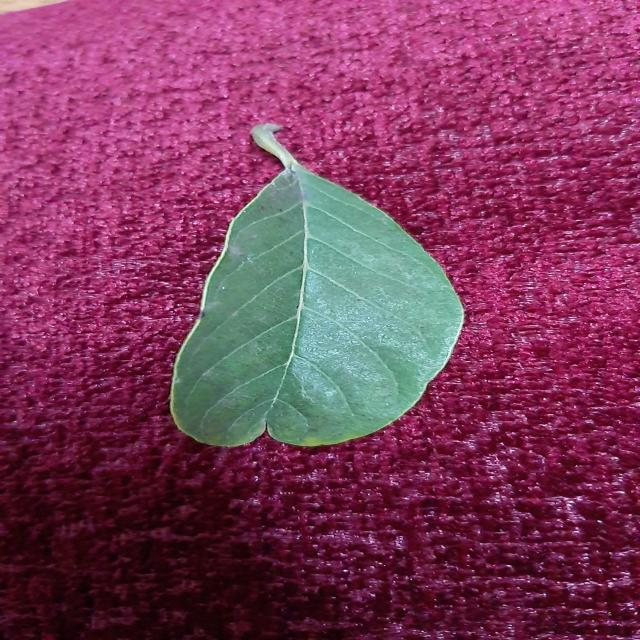seethaphala: (171, 124, 463, 446)
